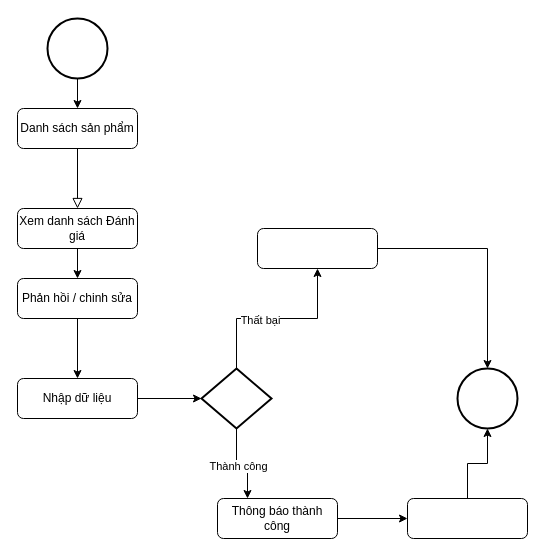
The diagram is 545 pixels wide and 556 high, and some of its shapes have lost their labels. The box of each missing label's shape, as (x1, y1, x2, y2) in pixels:
Lấy dữ liệu đánh giá/ phản hồi mới: (406, 498, 528, 538)
Thông báo lỗi: (256, 228, 378, 268)
